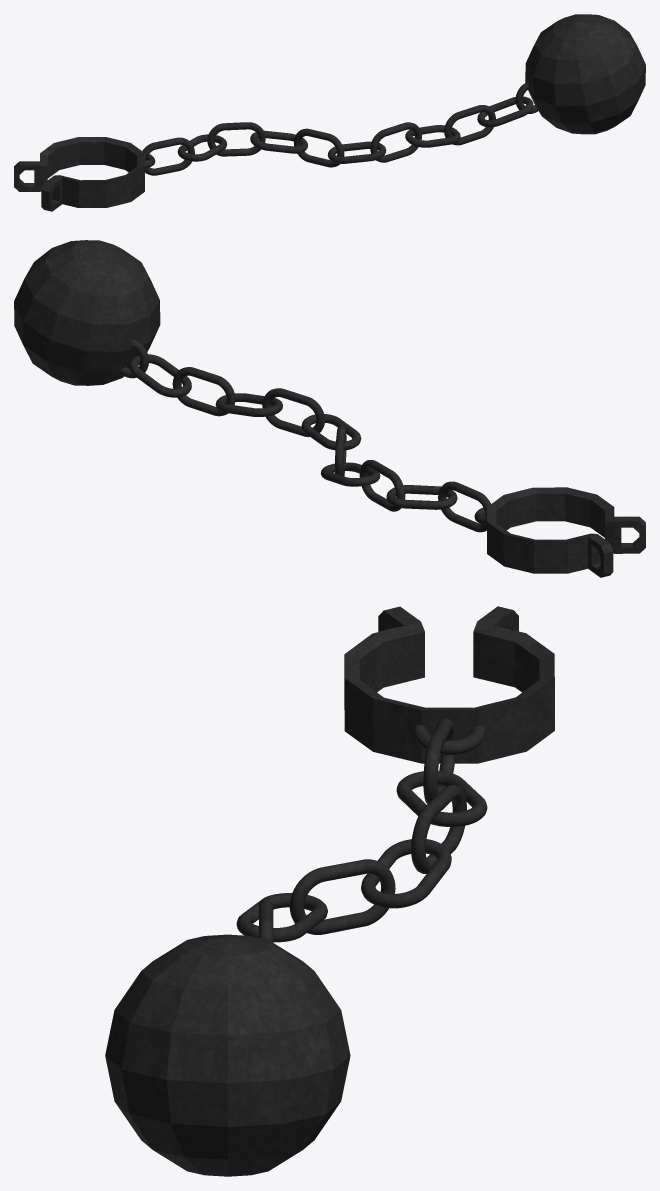
Rendered from grilletes.fbx.
3 renders of one model, top to bottom at view 1: azimuth 30°, elevation 25°; view 2: azimuth 150°, elevation 25°; view 3: azimuth 270°, elevation 25°, orthographic. The views are drawn at different scales.
Parts seen in each view (by area): view 1: Grilletes; view 2: Grilletes; view 3: Grilletes.
Part boxes in pixels (bbox=[...]): Grilletes: bbox=[14, 14, 645, 211]; Grilletes: bbox=[14, 240, 645, 577]; Grilletes: bbox=[105, 606, 554, 1176].
Size of the model in its own units: 149 by 28.05 by 52.3.
Materials: 1 (1 with a texture image).
